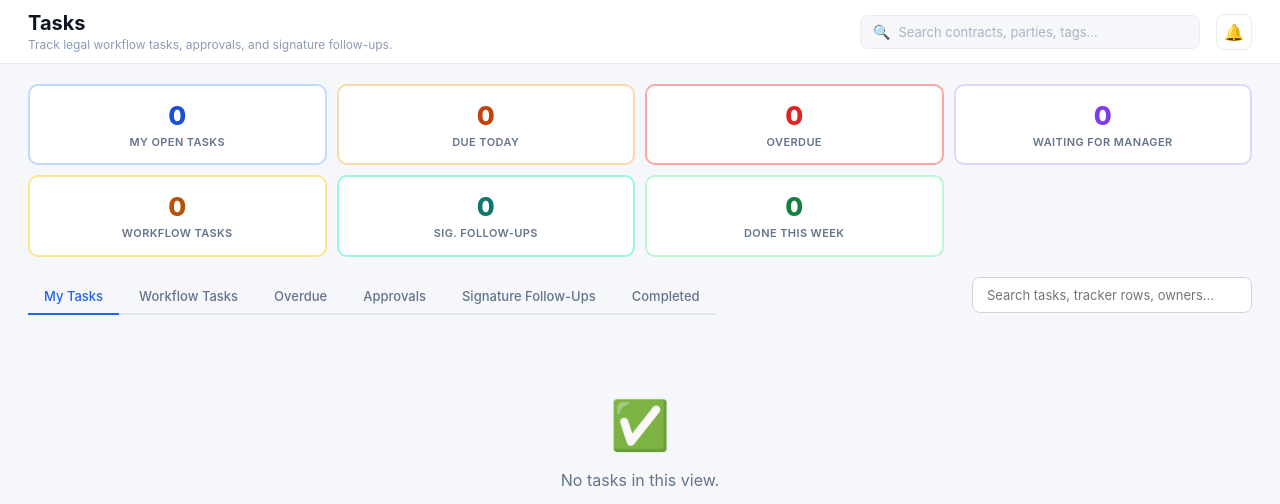
Test case: (sf-1) Shows Pending Signature docs from documents.list (server)
Click the button "Signature Follow-Ups" at (529, 297), box [446,279,612,315]
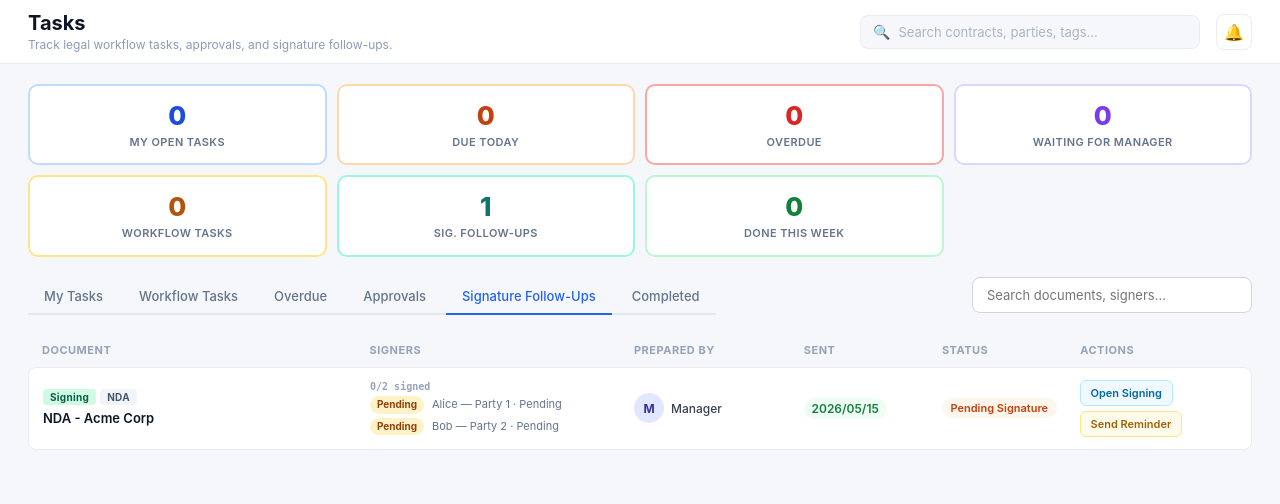
Expected: the text "NDA - Acme Corp" is shown, [43,410,154,426]
Expected: the text "0/2 signed" is shown, [370,381,430,392]
